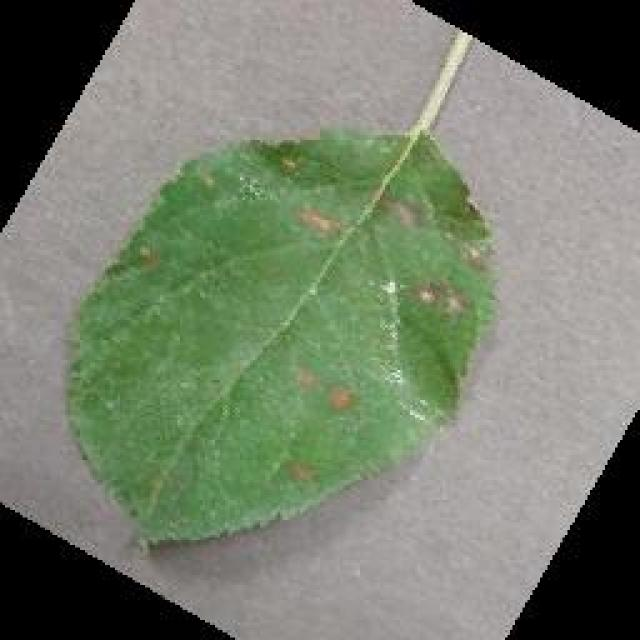Apple___Cedar_apple_rust: (57, 116, 506, 557)
